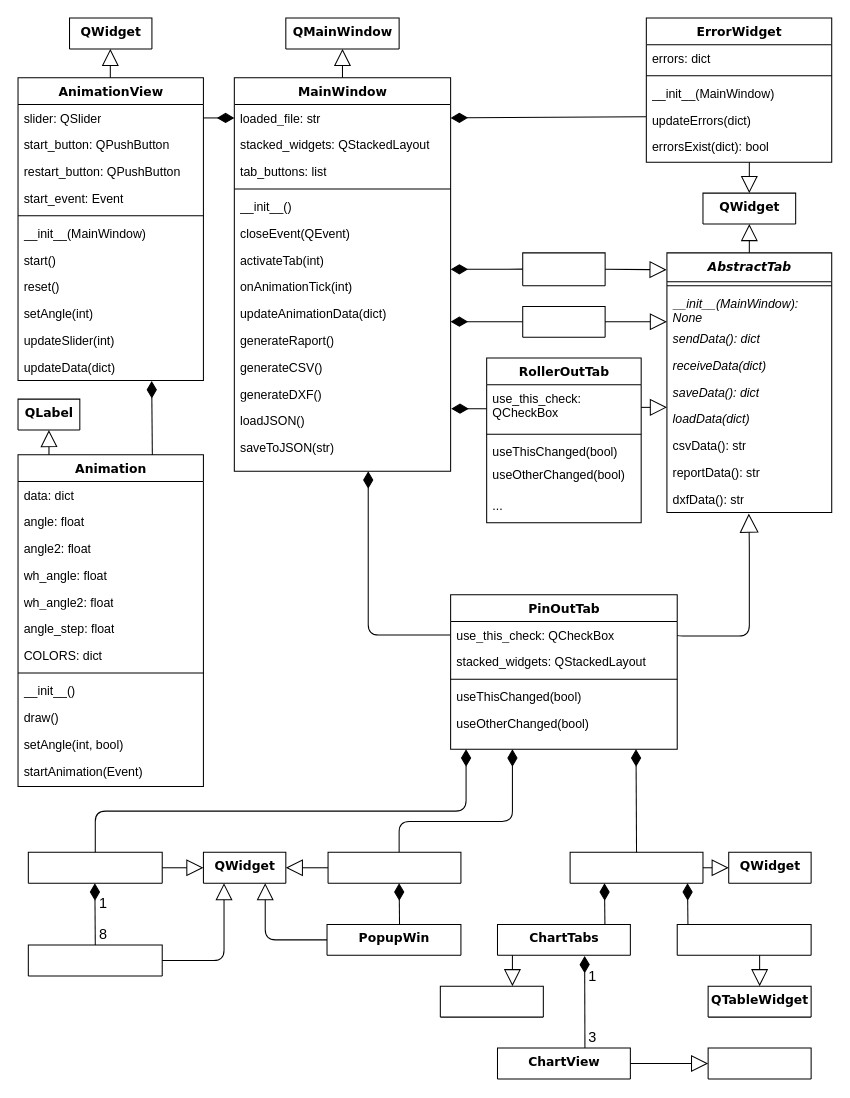
Some shapes in this 850 by 1098 pixel diagram are drawn without their labels. The shapes that lost their labels are listed below. From the top down, each one's centre as x and y in pixels, then its label:
(563,269): GearTab
(563,321): InTab
(94,867): ToleranceEdit
(394,867): DataEdit
(636,867): ResultsTab
(743,939): Table
(94,960): ToleranceInput
(491,1001): QTabWidget
(759,1063): QChartView
